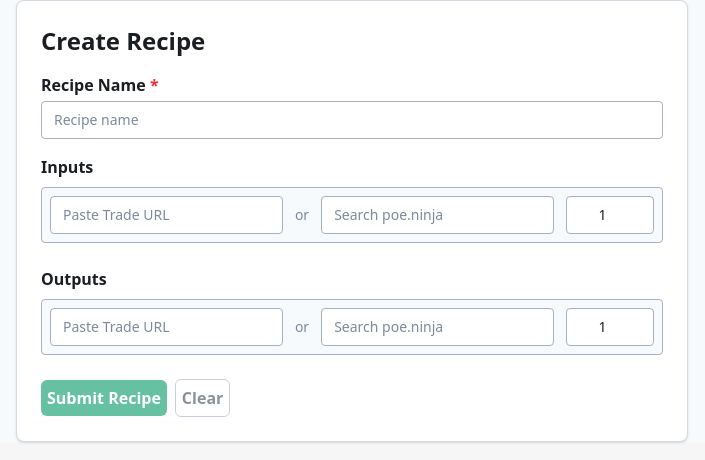
Scenario: CreateRecipePage › shows an error message if resolving an input fails
This screenshot has width=705, height=460.
Type "https://www.pathofexile.com/trade/search/Standard/abcdefghij" into the field with test id "trade-url-input" below "Inputs" at (166, 215), box [50,196,283,234]
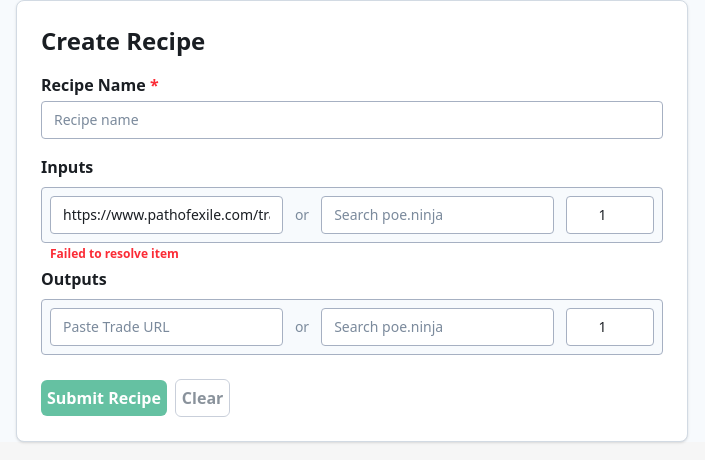
Expected: the text "Failed to resolve item" is shown, [50,246,179,262]
